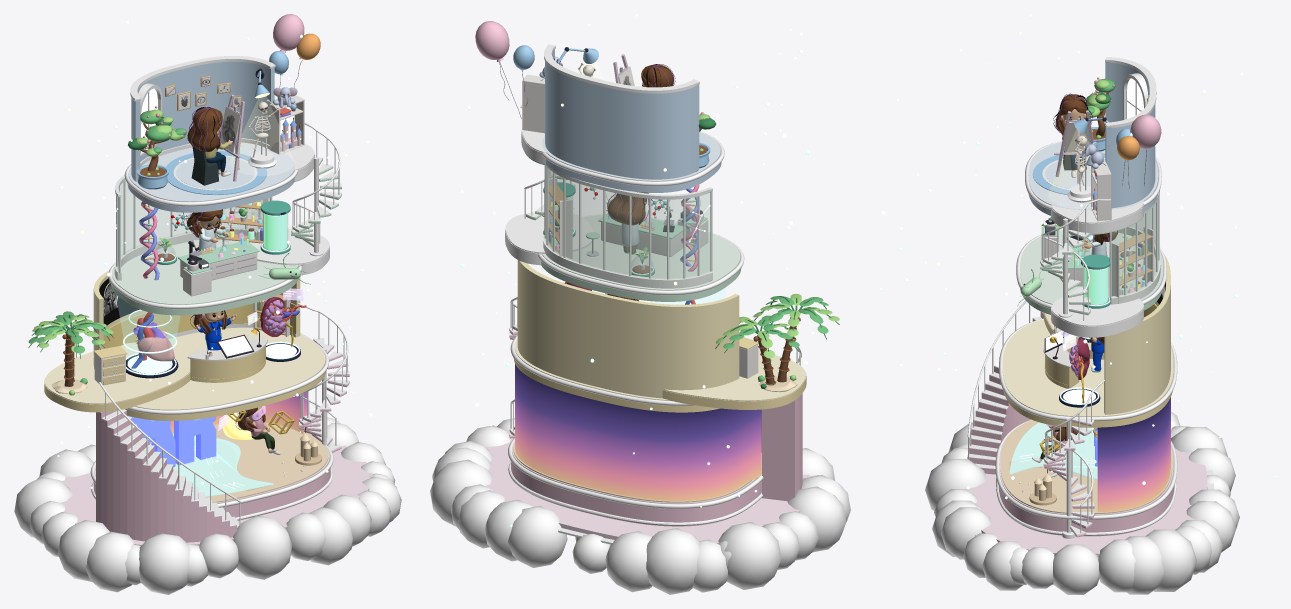
Rendered from diorama.glb.
The picture shows the model from 3 angles, left to right: view 1: azimuth 30°, elevation 25°; view 2: azimuth 150°, elevation 25°; view 3: azimuth 270°, elevation 25°; orthographic projection. The views are drawn at different scales.
Parts seen in each view (by area): view 1: Cloud, Stair_Grand, Wall_Art, Tier_Med, Tier_Bio, XR_Sand, Tier_Med.001, Board, Tier_Art, Wall_Med, XR_Letter_R.001, Stair_Spiral_Low (+43 smaller); view 2: Cloud, Wall_XR_Sky, Wall_Med, Wall_Art, Wall_Bio_Glass, Tier_Bio, Wall_Bio_Frame, Board, Tier_XR, XR_Palms, Stair_Grand, Tier_Med.001 (+17 smaller); view 3: Cloud, Wall_XR_Sky, Tier_Med, Wall_Med, Board, Wall_Art, XR_Sand, Stair_Grand, Stair_Spiral_Low, Wall_Bio_Glass, Tier_XR, Tier_Bio (+26 smaller).
Part boxes in pixels (left/top/right/bottom): Cloud: left=14, top=412, right=401, bottom=594; Stair_Grand: left=96, top=382, right=240, bottom=542; Wall_Art: left=130, top=56, right=275, bottom=181; Tier_Med: left=125, top=327, right=326, bottom=420; Tier_Bio: left=111, top=239, right=298, bottom=315; XR_Sand: left=95, top=423, right=328, bottom=502; Tier_Med.001: left=44, top=342, right=190, bottom=412; Board: left=61, top=445, right=372, bottom=545; Tier_Art: left=127, top=142, right=294, bottom=212; Wall_Med: left=93, top=270, right=300, bottom=369; XR_Letter_R.001: left=127, top=415, right=216, bottom=467; Stair_Spiral_Low: left=297, top=302, right=349, bottom=452; Cloud: left=430, top=418, right=850, bottom=594; Wall_XR_Sky: left=515, top=364, right=761, bottom=500; Wall_Med: left=517, top=260, right=739, bottom=398; Wall_Art: left=544, top=44, right=699, bottom=179; Wall_Bio_Glass: left=545, top=166, right=710, bottom=278; Tier_Bio: left=541, top=214, right=741, bottom=301; Wall_Bio_Frame: left=543, top=165, right=712, bottom=288; Board: left=484, top=430, right=810, bottom=544; Tier_XR: left=511, top=441, right=761, bottom=526; XR_Palms: left=715, top=293, right=839, bottom=392; Stair_Grand: left=761, top=347, right=802, bottom=501; Tier_Med.001: left=662, top=351, right=806, bottom=409; Cloud: left=925, top=411, right=1239, bottom=594; Wall_XR_Sky: left=1097, top=397, right=1170, bottom=512; Tier_Med: left=1002, top=319, right=1173, bottom=427; Wall_Med: left=1104, top=254, right=1170, bottom=414; Board: left=966, top=429, right=1213, bottom=560; Wall_Art: left=1105, top=57, right=1156, bottom=208; XR_Sand: left=1000, top=420, right=1172, bottom=514; Stair_Grand: left=967, top=300, right=1043, bottom=474; Stair_Spiral_Low: left=1043, top=379, right=1104, bottom=538; Wall_Bio_Glass: left=1112, top=199, right=1158, bottom=296; Tier_XR: left=998, top=430, right=1174, bottom=536; Tier_Bio: left=1020, top=230, right=1163, bottom=314.
Size of the model in its own units: 11.56 by 15.62 by 11.51.
Materials: 213 (2 with a texture image).
